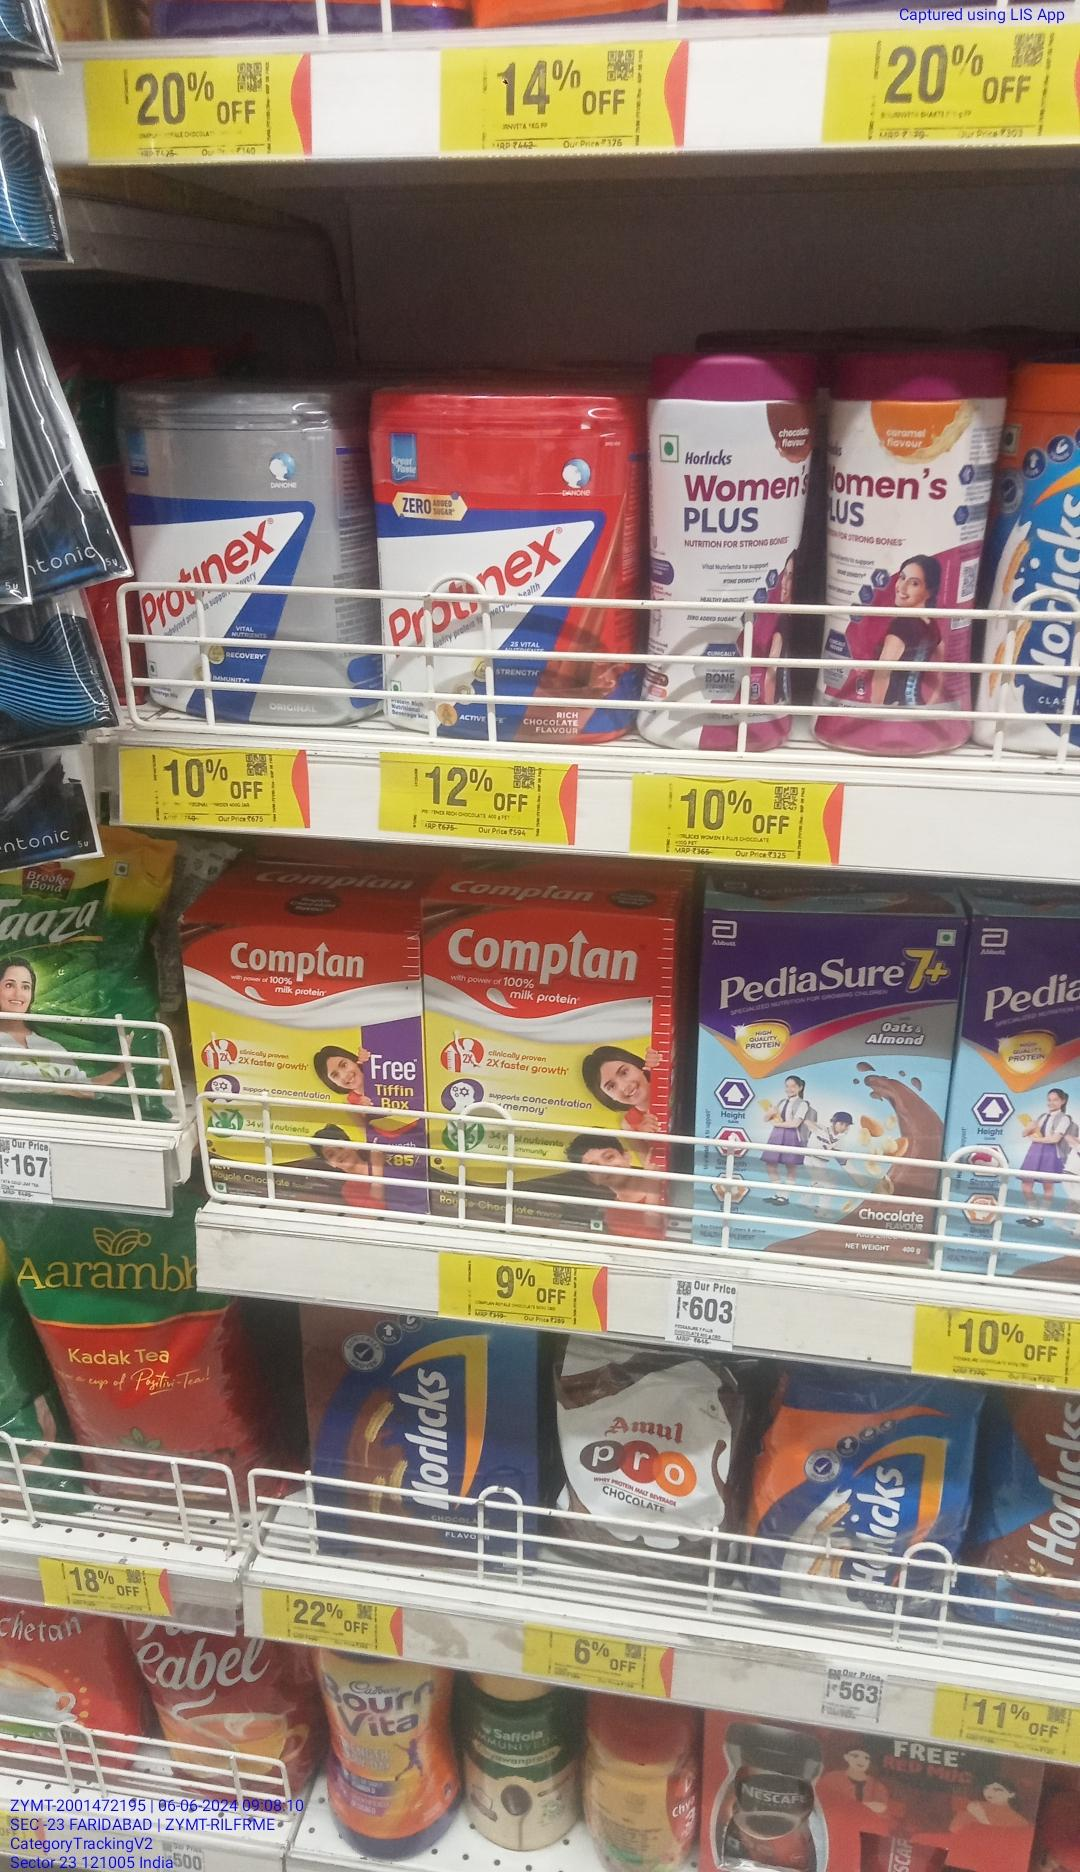BOURN_VITA_500_G_JAR: (318, 1650, 462, 1859)
COMPLAN_CHOCOLATE_500_GMS_PACK: (440, 910, 671, 1233), (188, 921, 433, 1215)
HORLICK_CLASSIC_MALT_750_G_POUCH: (747, 1367, 972, 1619)
PEDIASURE_7_PLUS_CHOCOLATE_400_G_PACK: (694, 914, 945, 1264)
PROTINEX_CHOCOLATE_400_G_JAR: (372, 386, 627, 741)
PROTINEX_ORIGINAL_400_G_JAR: (120, 382, 338, 716)
